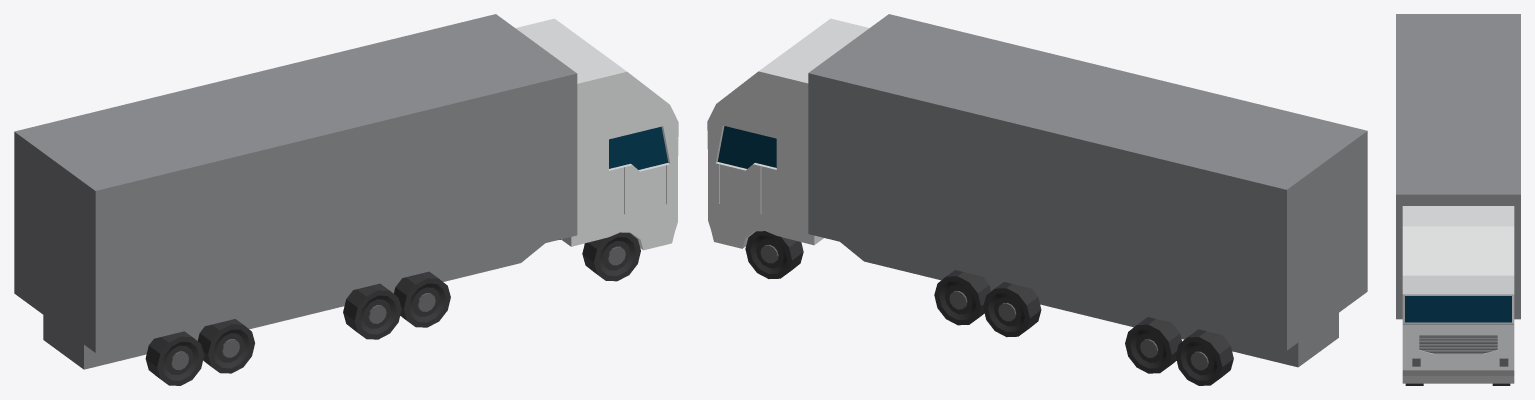
Rendered from Truck 1.fbx.
The picture shows the model from 3 angles, left to right: view 1: azimuth 30°, elevation 25°; view 2: azimuth 150°, elevation 25°; view 3: azimuth 270°, elevation 25°; orthographic projection. The views are drawn at different scales.
Visible parts, largest first — view 1: Truck_1; view 2: Truck_1; view 3: Truck_1.
Part boxes in pixels (x1=…): Truck_1: x1=14, y1=14, x2=678, y2=385; Truck_1: x1=707, y1=14, x2=1367, y2=385; Truck_1: x1=1396, y1=14, x2=1520, y2=385.
Size of the model in its own units: 1035 by 376 by 248.
